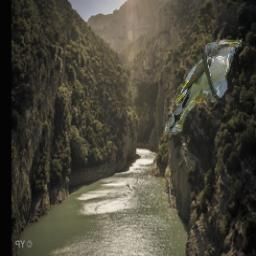Cuckoo: (165, 40, 242, 134)
